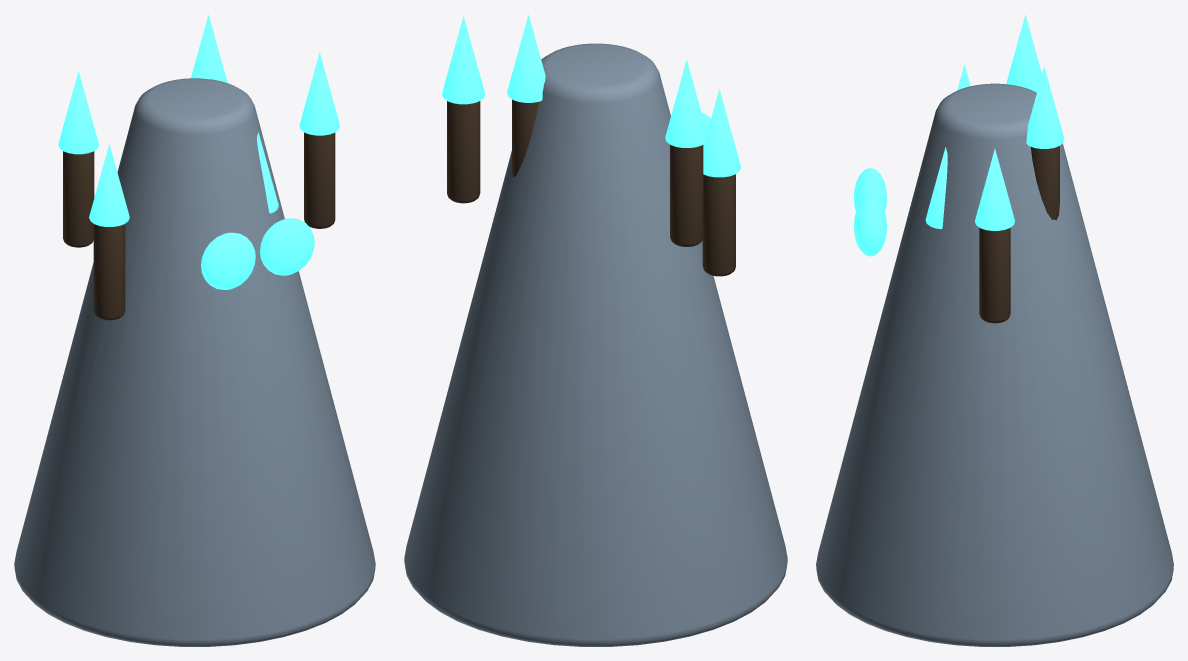
File: wisp_v4.glb
3 views of the same model, side by side, from view 1: azimuth 30°, elevation 25°; view 2: azimuth 150°, elevation 25°; view 3: azimuth 270°, elevation 25° (orthographic). The views are drawn at different scales.
Visible parts, largest first — view 1: CANDLE_WRAITH_PRIMARY, CANDLE_SECONDARY.003, CANDLE_SECONDARY, CANDLE_SECONDARY.002, EYE_EMISSIVE.001, EYE_EMISSIVE, CANDLE_FLAME_EMISSIVE.002, CANDLE_FLAME_EMISSIVE, CANDLE_FLAME_EMISSIVE.003, CANDLE_FLAME_EMISSIVE.001, CANDLE_FLAME_EMISSIVE.004; view 2: CANDLE_WRAITH_PRIMARY, CANDLE_SECONDARY, CANDLE_SECONDARY.002, CANDLE_SECONDARY.003, CANDLE_FLAME_EMISSIVE, CANDLE_FLAME_EMISSIVE.002, CANDLE_FLAME_EMISSIVE.003, CANDLE_FLAME_EMISSIVE.001, CANDLE_SECONDARY.001; view 3: CANDLE_WRAITH_PRIMARY, CANDLE_SECONDARY, CANDLE_FLAME_EMISSIVE, CANDLE_FLAME_EMISSIVE.001, EYE_EMISSIVE.001, CANDLE_SECONDARY.001, CANDLE_FLAME_EMISSIVE.002, CANDLE_FLAME_EMISSIVE.004, EYE_EMISSIVE.
Boxes of the visible parts, x1=… form: CANDLE_WRAITH_PRIMARY: x1=14, y1=78, x2=375, y2=646; CANDLE_SECONDARY.003: x1=93, y1=224, x2=125, y2=320; CANDLE_SECONDARY: x1=304, y1=132, x2=335, y2=228; CANDLE_SECONDARY.002: x1=63, y1=151, x2=94, y2=247; EYE_EMISSIVE.001: x1=260, y1=218, x2=314, y2=275; EYE_EMISSIVE: x1=201, y1=232, x2=255, y2=289; CANDLE_FLAME_EMISSIVE.002: x1=58, y1=71, x2=98, y2=154; CANDLE_FLAME_EMISSIVE: x1=299, y1=52, x2=339, y2=135; CANDLE_FLAME_EMISSIVE.003: x1=89, y1=143, x2=129, y2=226; CANDLE_FLAME_EMISSIVE.001: x1=191, y1=14, x2=227, y2=82; CANDLE_FLAME_EMISSIVE.004: x1=257, y1=132, x2=278, y2=213; CANDLE_WRAITH_PRIMARY: x1=404, y1=43, x2=787, y2=646; CANDLE_SECONDARY: x1=447, y1=101, x2=480, y2=203; CANDLE_SECONDARY.002: x1=670, y1=144, x2=703, y2=246; CANDLE_SECONDARY.003: x1=702, y1=174, x2=735, y2=276; CANDLE_FLAME_EMISSIVE: x1=442, y1=16, x2=484, y2=104; CANDLE_FLAME_EMISSIVE.002: x1=665, y1=59, x2=708, y2=147; CANDLE_FLAME_EMISSIVE.003: x1=703, y1=89, x2=740, y2=177; CANDLE_FLAME_EMISSIVE.001: x1=507, y1=14, x2=545, y2=102; CANDLE_SECONDARY.001: x1=512, y1=99, x2=538, y2=177; CANDLE_WRAITH_PRIMARY: x1=816, y1=83, x2=1173, y2=646; CANDLE_SECONDARY: x1=979, y1=228, x2=1010, y2=323; CANDLE_FLAME_EMISSIVE: x1=975, y1=149, x2=1014, y2=230; CANDLE_FLAME_EMISSIVE.001: x1=1026, y1=66, x2=1064, y2=148; EYE_EMISSIVE.001: x1=854, y1=196, x2=886, y2=256; CANDLE_SECONDARY.001: x1=1031, y1=146, x2=1059, y2=220; CANDLE_FLAME_EMISSIVE.002: x1=1006, y1=14, x2=1041, y2=92; CANDLE_FLAME_EMISSIVE.004: x1=925, y1=147, x2=947, y2=229; EYE_EMISSIVE: x1=854, y1=168, x2=886, y2=211.
Bounding box in the file's own units: 1.07 × 1.75 × 1.08.
